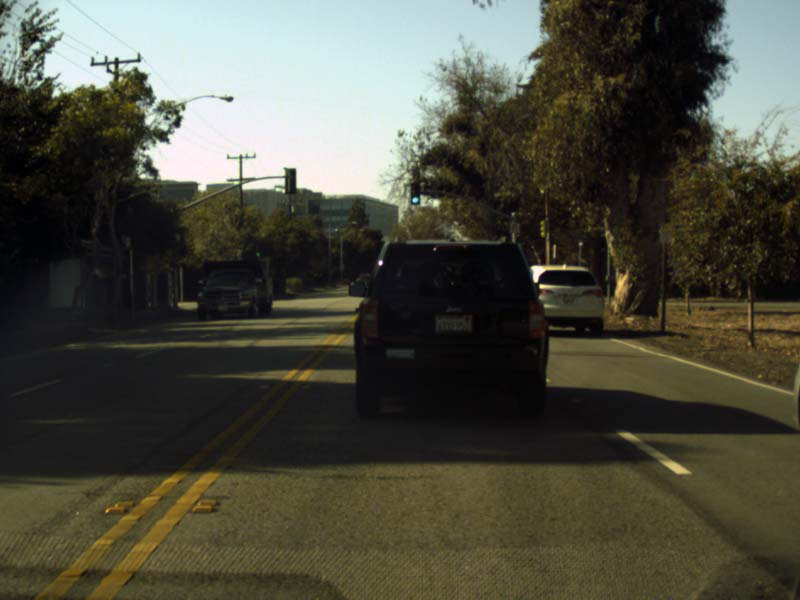Green: (410, 183, 420, 205), (254, 243, 261, 258)
